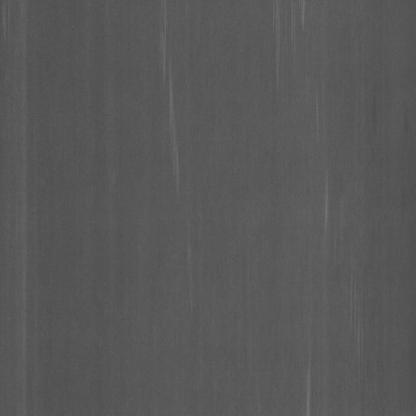silk_spot: (150, 20, 193, 178), (342, 266, 380, 354), (265, 3, 306, 78), (318, 141, 339, 246), (307, 327, 320, 415)
